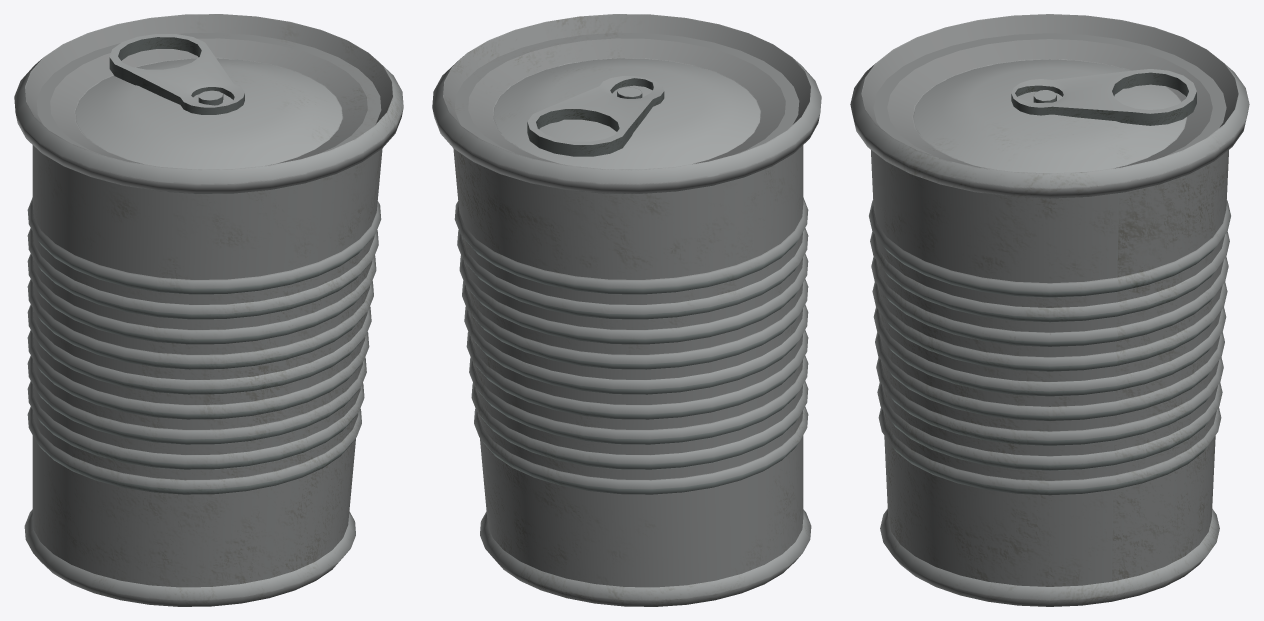
File: 무지 통조림캔.fbx
3 renders of one model, left to right at view 1: azimuth 30°, elevation 25°; view 2: azimuth 150°, elevation 25°; view 3: azimuth 270°, elevation 25°, orthographic. The views are drawn at different scales.
Parts seen in each view (by area): view 1: 캔2; view 2: 캔2; view 3: 캔2.
Boxes of the visible parts, <box> form: 캔2: <box>14,14,403,606</box>; 캔2: <box>432,14,821,606</box>; 캔2: <box>850,14,1249,606</box>.
Size of the model in its own units: 255 by 322 by 255.
Materials: 1 (1 with a texture image).
